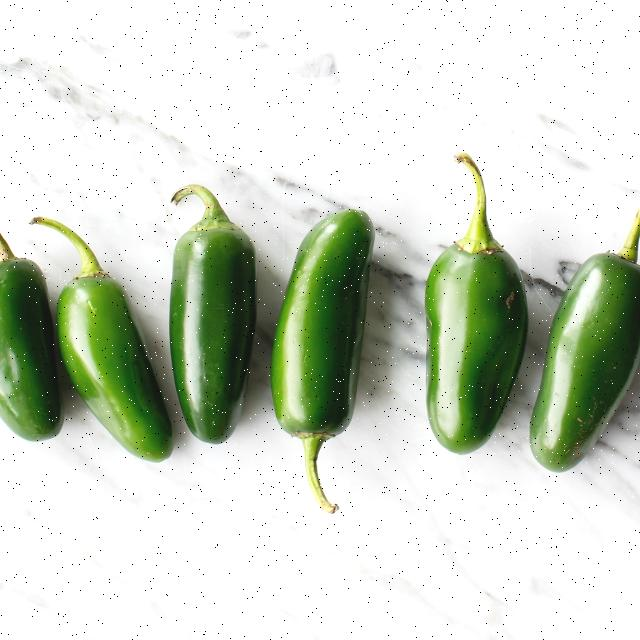Chili Pepper: (30, 216, 172, 463), (271, 209, 375, 514), (426, 152, 529, 454), (532, 212, 640, 472), (170, 185, 255, 444), (0, 238, 62, 441)
